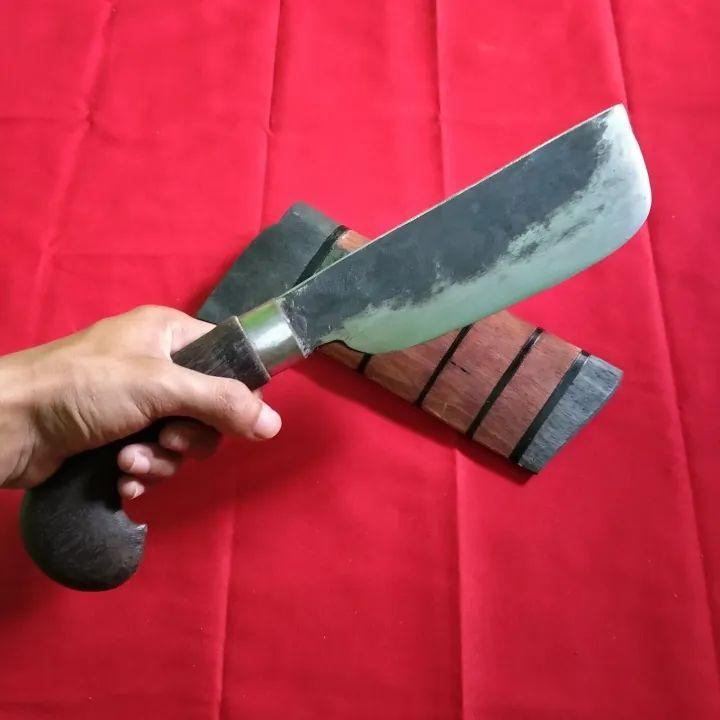facao: (3, 92, 659, 607)
